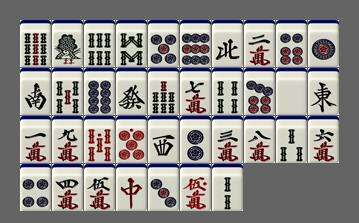0m: (180, 164, 211, 211)
0p: (116, 116, 147, 163)
0s: (84, 116, 115, 163)
1m: (20, 116, 51, 163)
1p: (308, 20, 339, 67)
1s: (52, 20, 83, 67)
1z: (308, 68, 339, 115)
2m: (244, 20, 275, 67)
2p: (180, 116, 211, 163)
2s: (212, 164, 243, 211)
2z: (20, 68, 51, 115)
3m: (212, 116, 243, 163)
3p: (148, 164, 179, 211)
3s: (276, 116, 307, 163)
3z: (148, 116, 179, 163)
4m: (52, 164, 83, 211)
4p: (20, 164, 51, 211)
4s: (212, 68, 243, 115)
4z: (212, 20, 243, 67)
5m: (84, 164, 115, 211)
5p: (148, 20, 179, 67)
5s: (52, 68, 83, 115)
5z: (276, 68, 307, 115)
6m: (308, 116, 339, 163)
6p: (276, 20, 307, 67)
6s: (84, 20, 115, 67)
6z: (116, 68, 147, 115)
7m: (180, 68, 211, 115)
7p: (244, 68, 275, 115)
7s: (148, 68, 179, 115)
7z: (116, 164, 147, 211)
8m: (244, 116, 275, 163)
8p: (84, 68, 115, 115)
8s: (116, 20, 147, 67)
9m: (52, 116, 83, 163)
9p: (180, 20, 211, 67)
9s: (20, 20, 51, 67)
